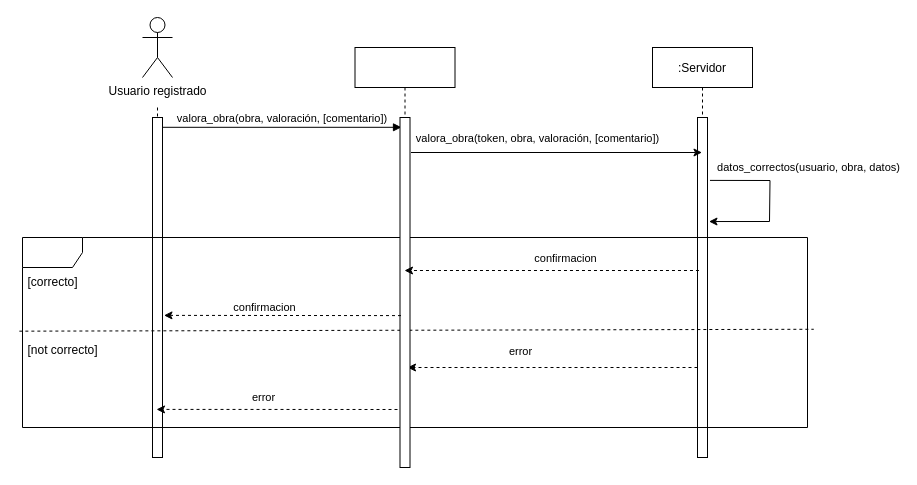
This 917x485 diagram has some shape labels left out. The box of each missing label's shape, as (x1, y1, x2, y2) in pixels:
:Cliente: (354, 46, 455, 468)
alt: (22, 236, 808, 428)
